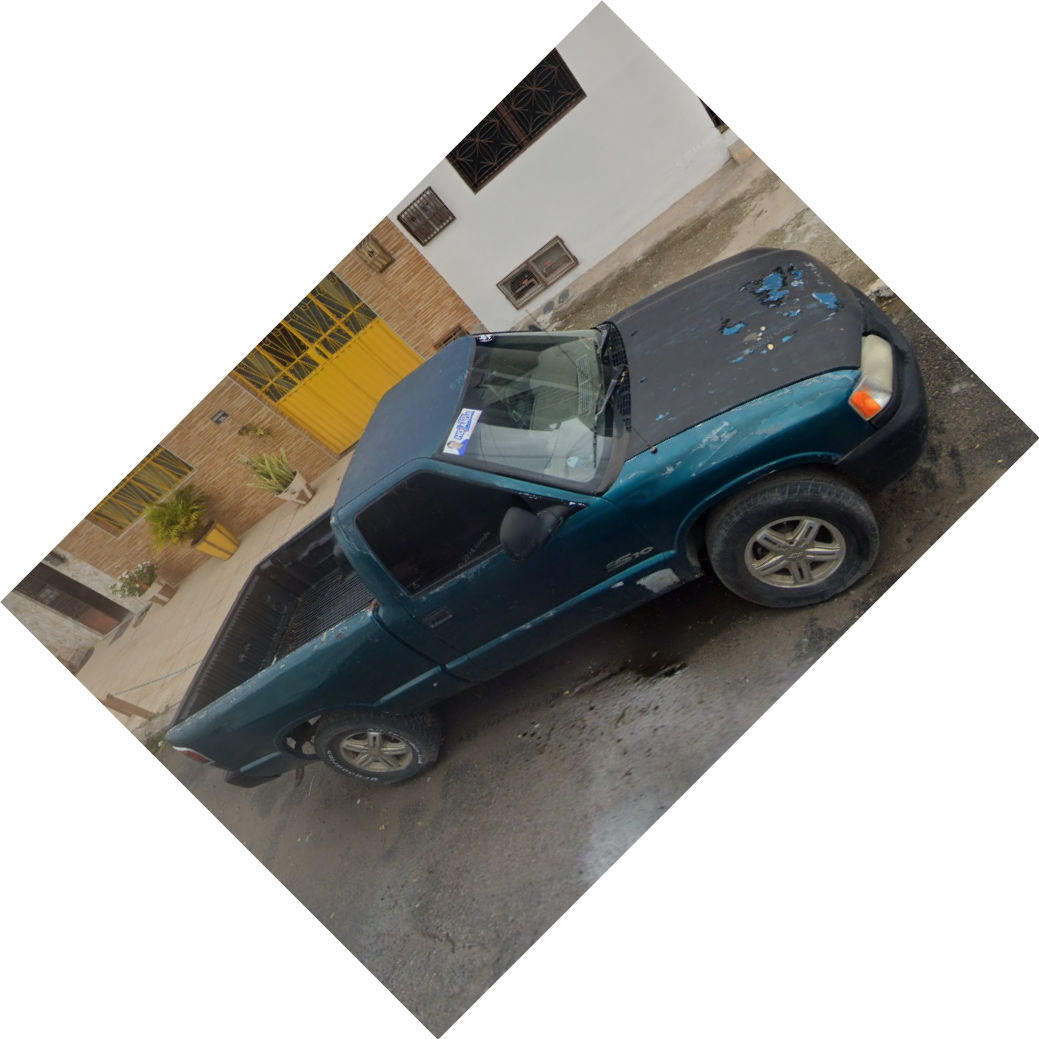car: (169, 240, 927, 799)
